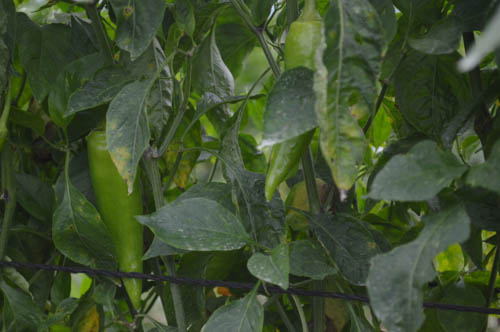ChiliPepper: (262, 23, 324, 210), (87, 131, 148, 310)
